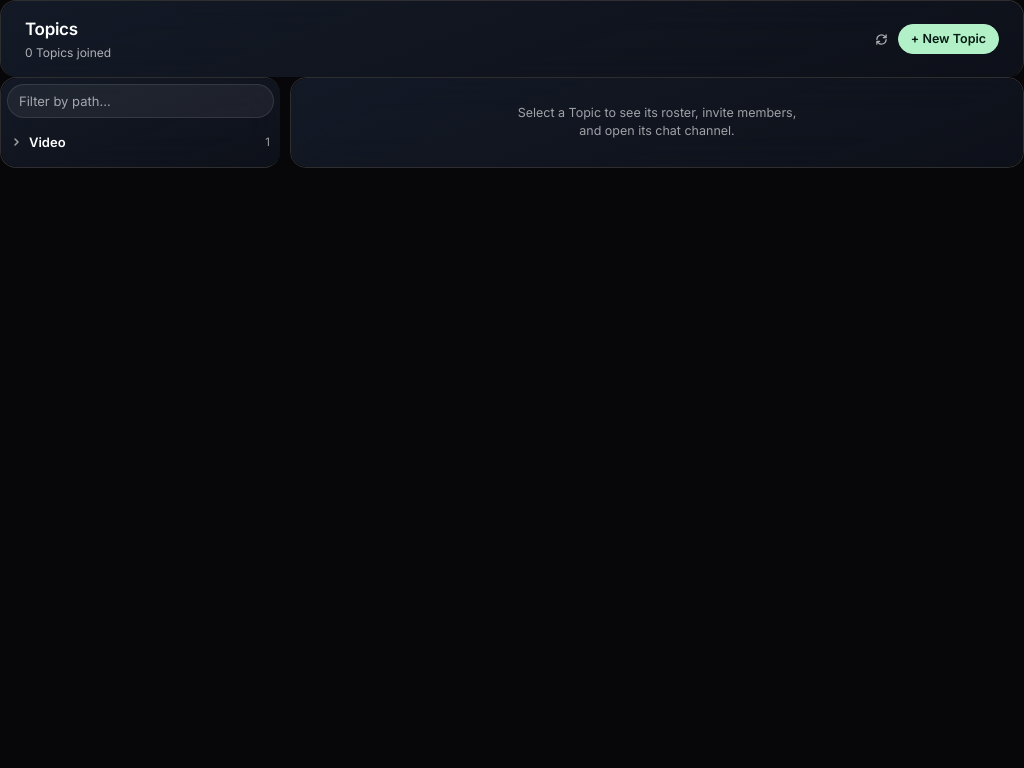
QURATOR-149 — the collapse toggle is live in a group with a joined Topic › a group COLLAPSED at the moment a join lands under it OPENS (the original rationale, preserved)
Click the button with class "root-header" at (47, 142), box [7,124,274,161]
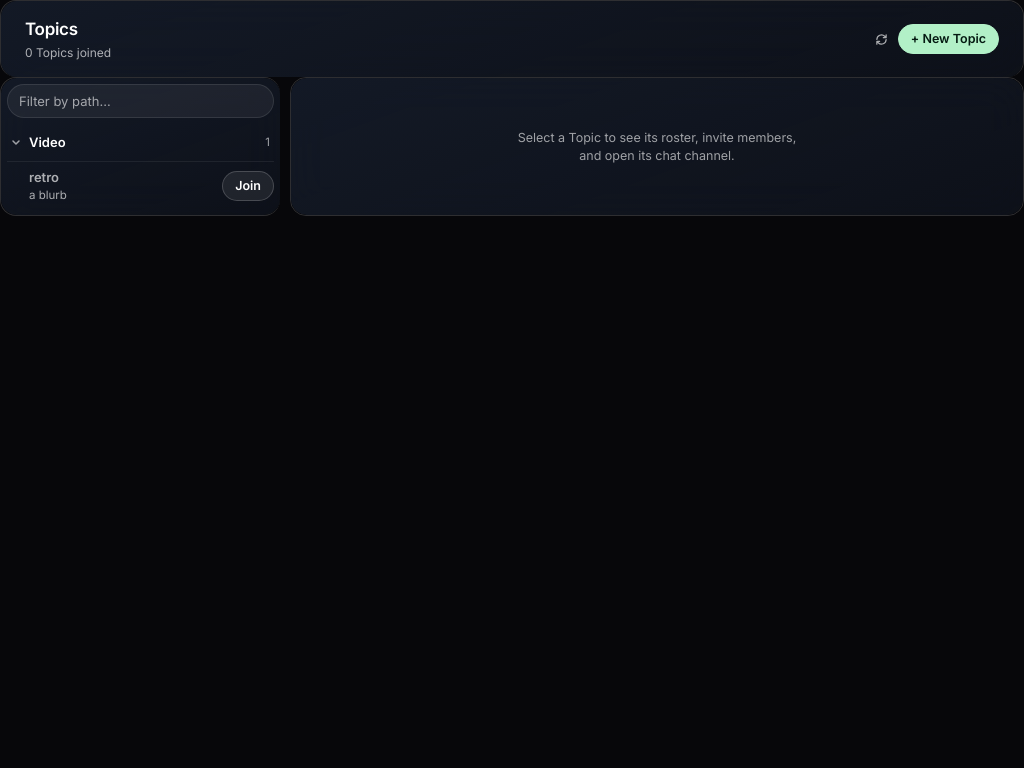
Expected: the text "retro" is shown, [29,169,59,185]
Click the button with class "name" at (48, 195), box [7,161,274,209]
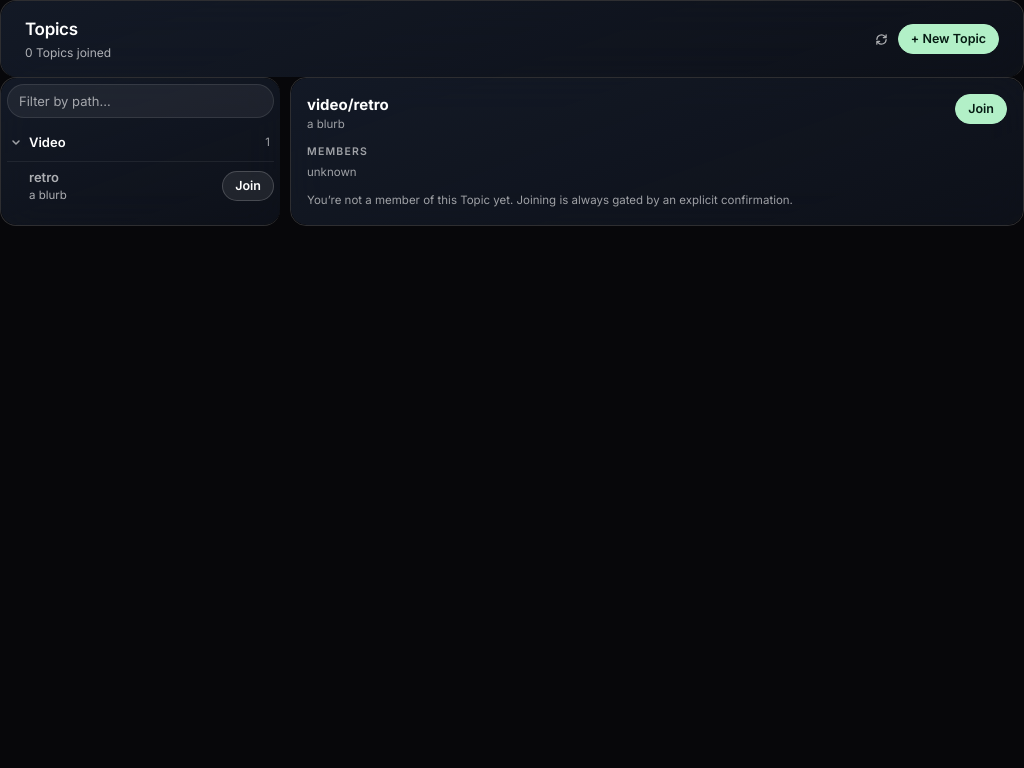
Expected: the text "not a member" is shown, [307,193,793,207]
Click the button with class "root-header" at (47, 142), box [7,124,274,161]
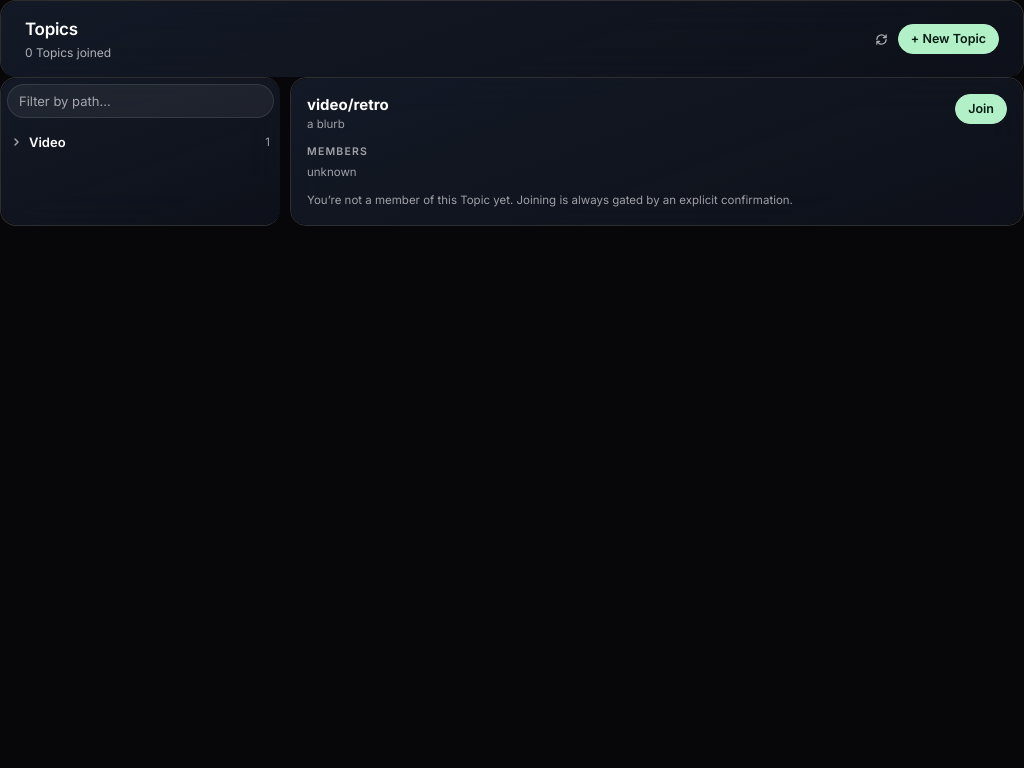
Expected: the button "Join" is shown
Click the button "Join" at (981, 109), box [955,94,1007,124]
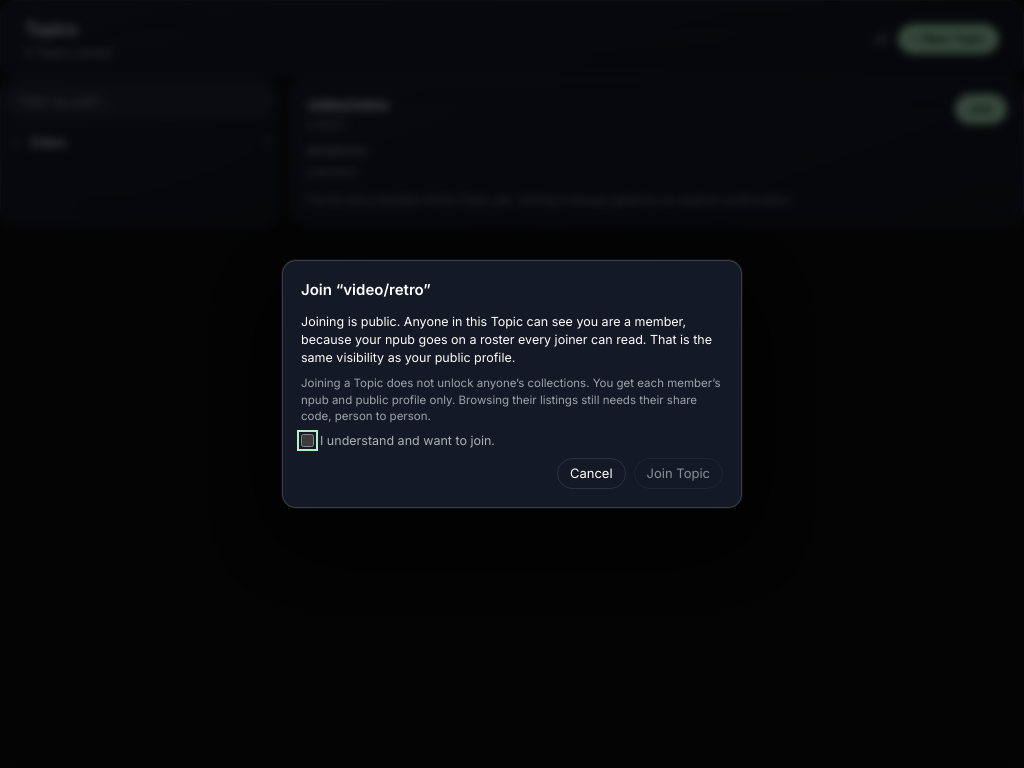
Expected: the checkbox labelled "I understand and want to join." is shown
Click the checkbox labelled "I understand and want to join." at (308, 441), box [301,434,314,447]
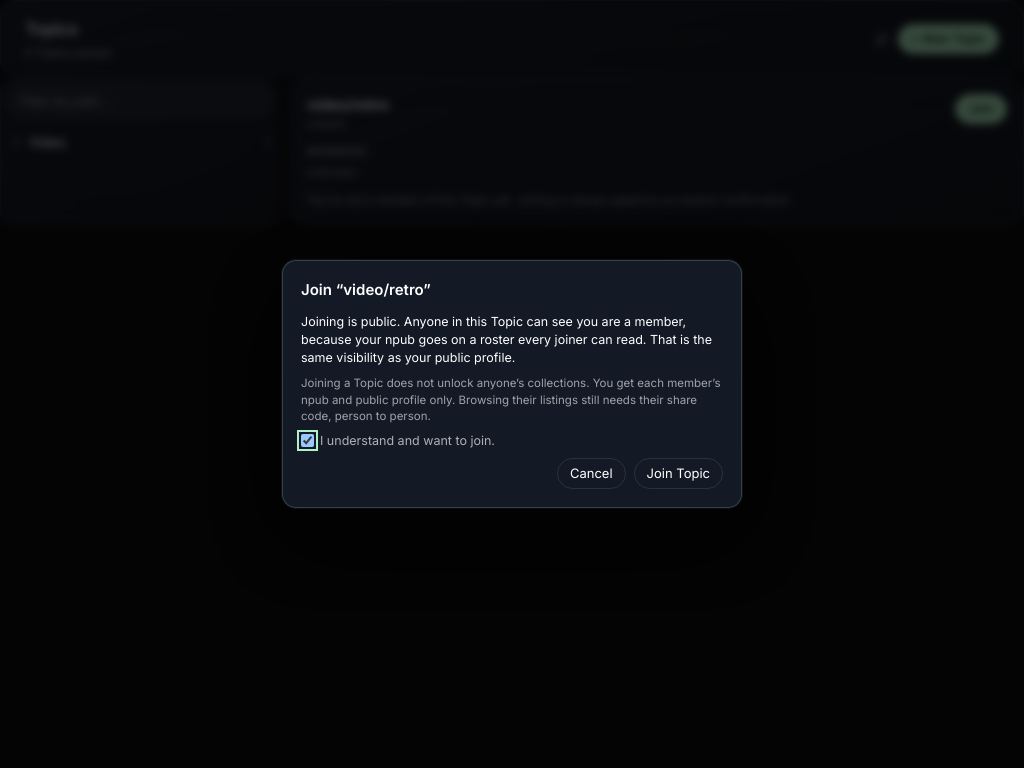
Expected: the button "Join Topic" is shown
Click the button "Join Topic" at (678, 473), box [634,458,723,489]
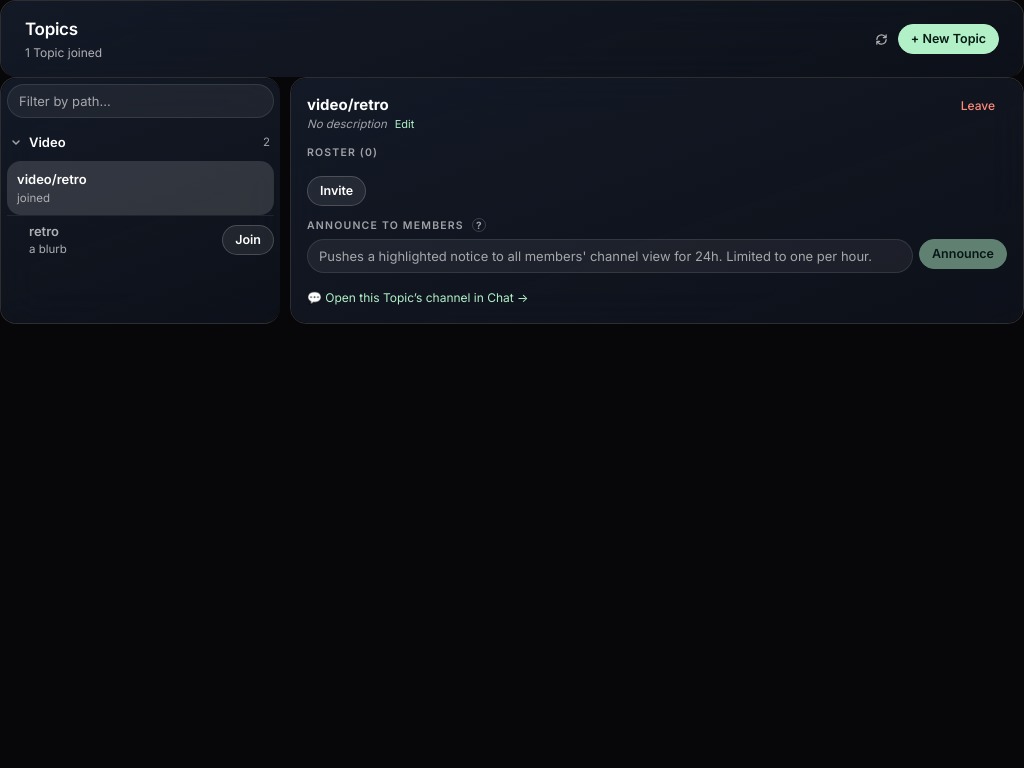
Expected: the text "video/retro" is shown, [17,171,87,187]
Expected: the button with class "root-header" is expanded, [7,124,274,161]
